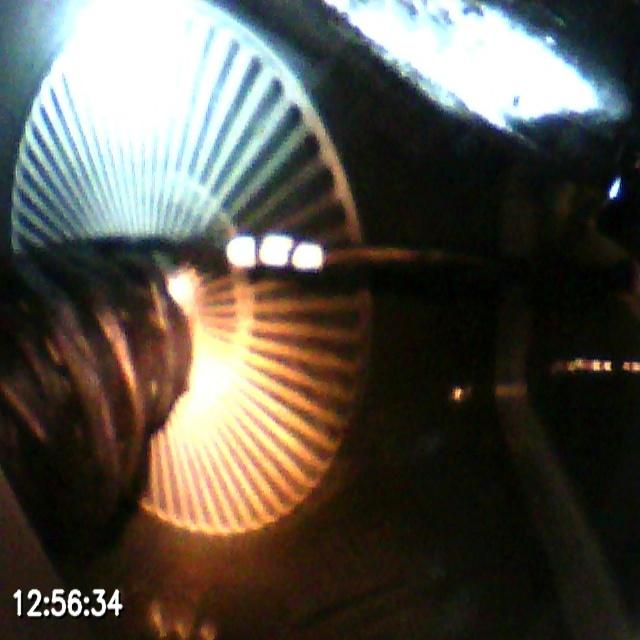white-dots: (226, 234, 325, 272)
